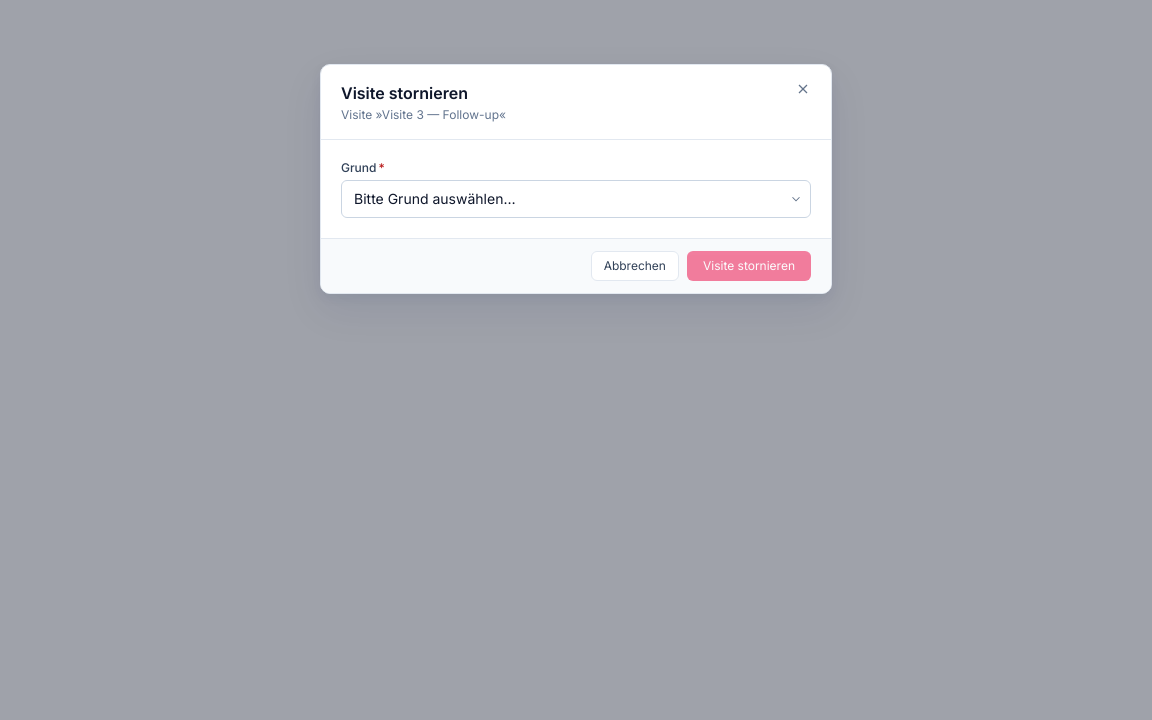
Test: CancelEventDialog › reveals the free-text textarea only when the picked row is is_other=true
This screenshot has width=1152, height=720.
Select "Patient nicht erschienen" in the dropdown with id "cancel-event-reason": (576, 199) [341,180,811,218]
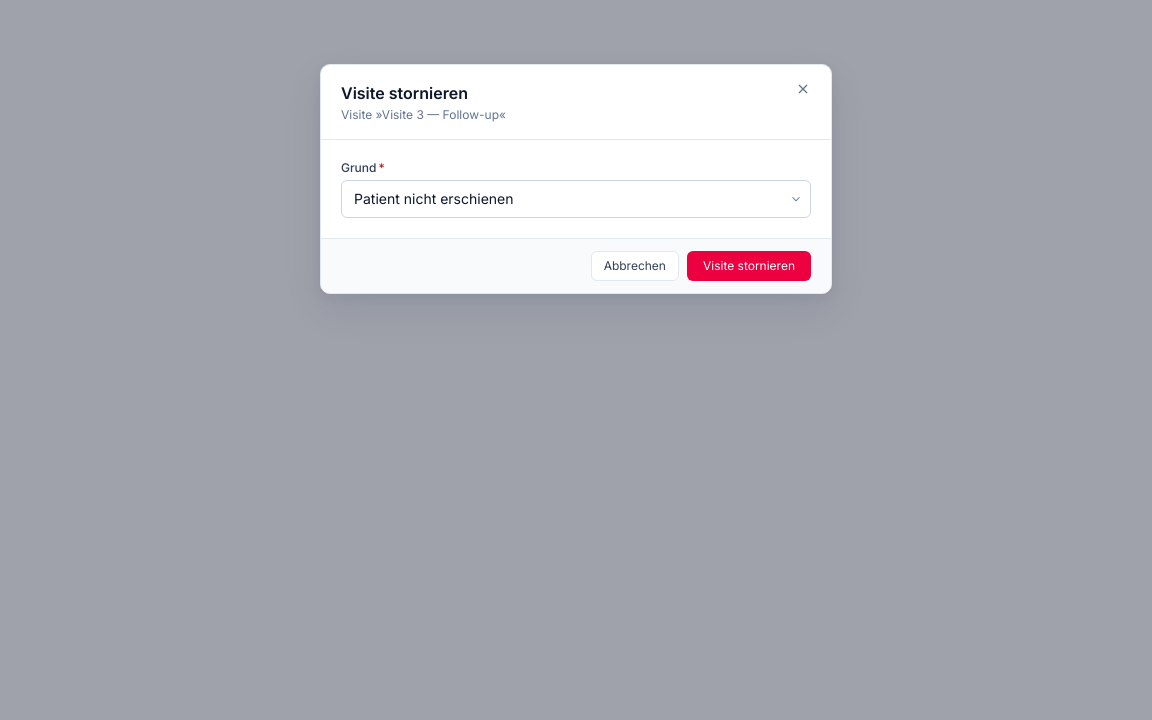
Select "Sonstiges (Freitext)" in the dropdown with id "cancel-event-reason": (576, 199) [341,180,811,218]
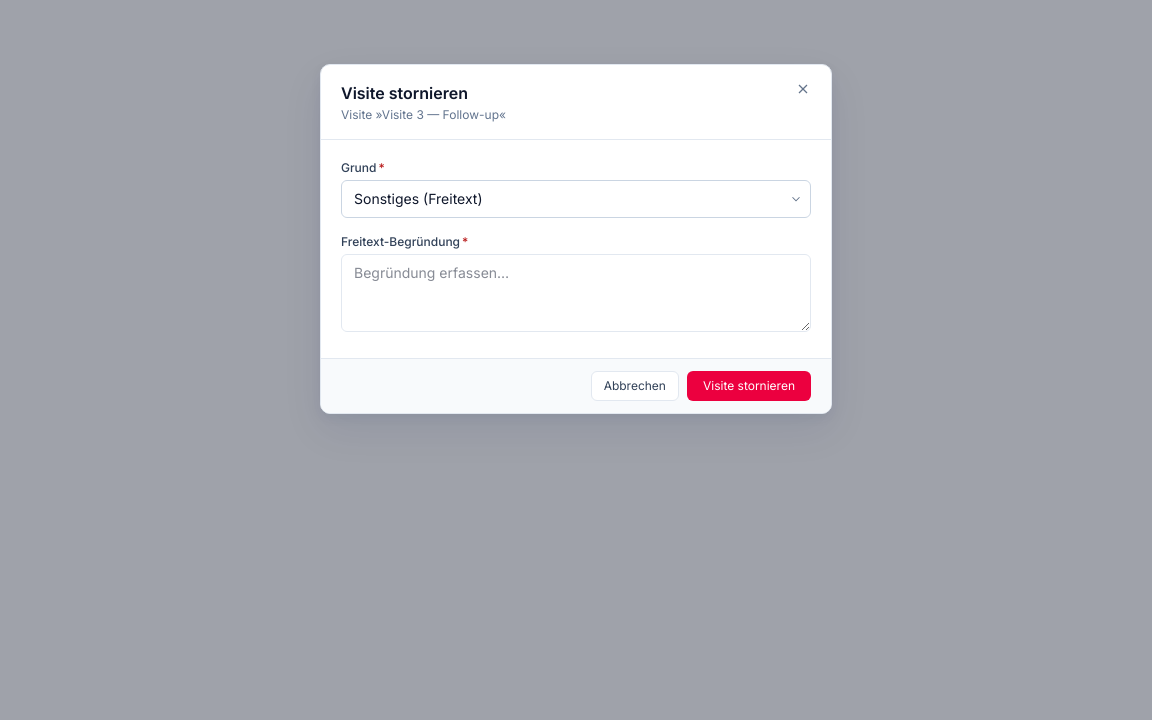
Check: the text box with test id "cancel-event-other-text" is shown, box [341,254,811,332]
